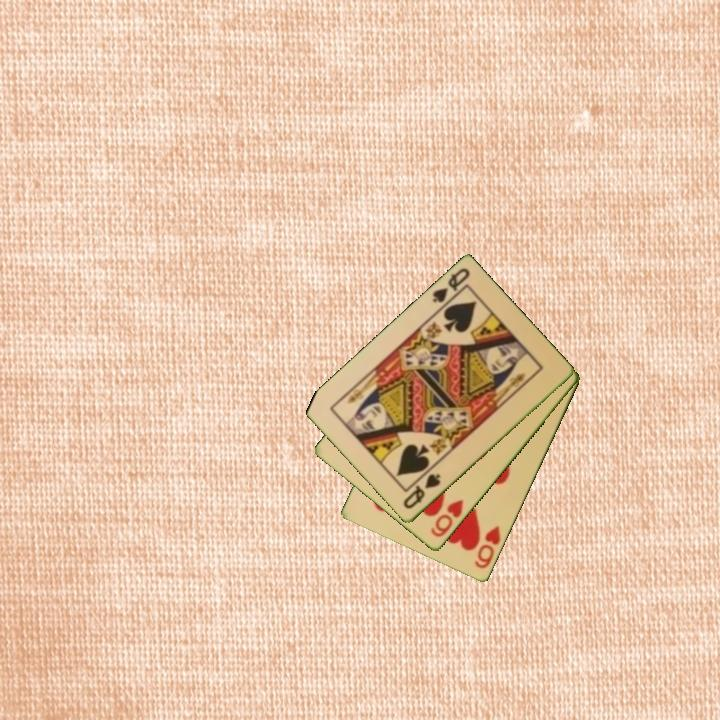6h: (427, 496, 467, 540), (471, 523, 504, 572)
Qs: (399, 470, 443, 512), (429, 265, 473, 306)
